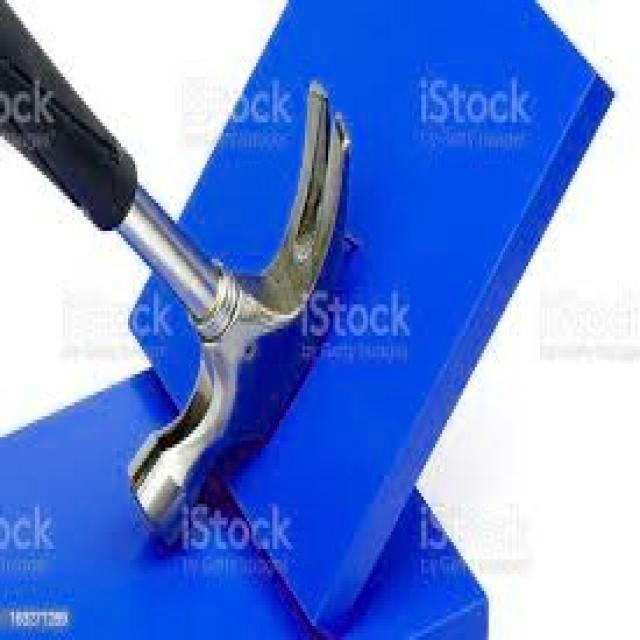hammer: (0, 0, 356, 556)
